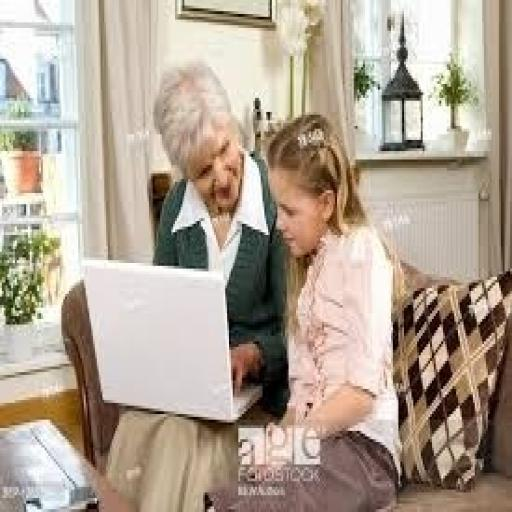using_laptop: (80, 258, 264, 422)
